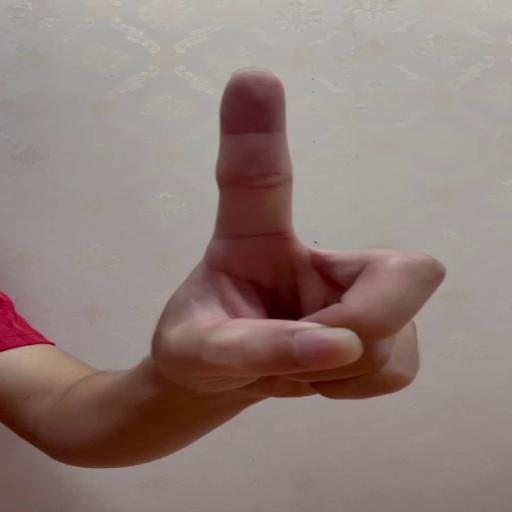point: (192, 63, 449, 401)
